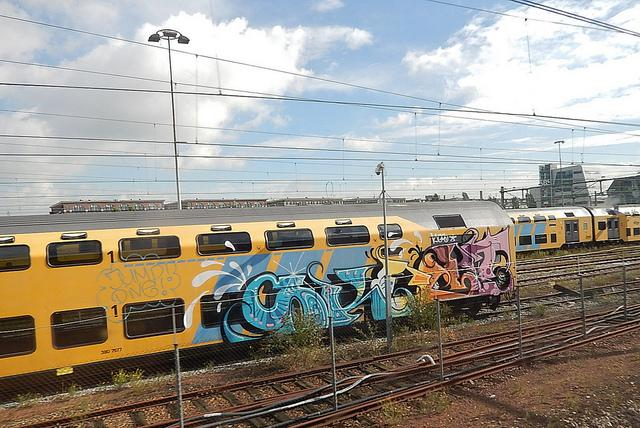Train: (1, 198, 513, 376), (503, 206, 640, 253)
